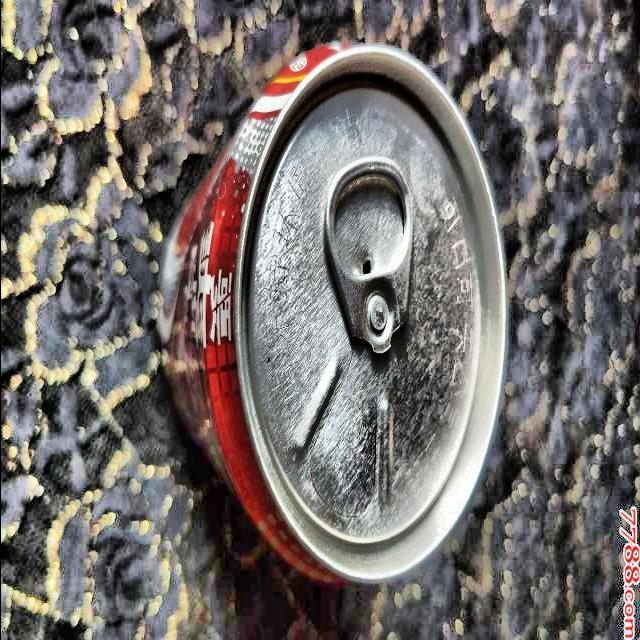Aluminum Can: (148, 33, 521, 596)
